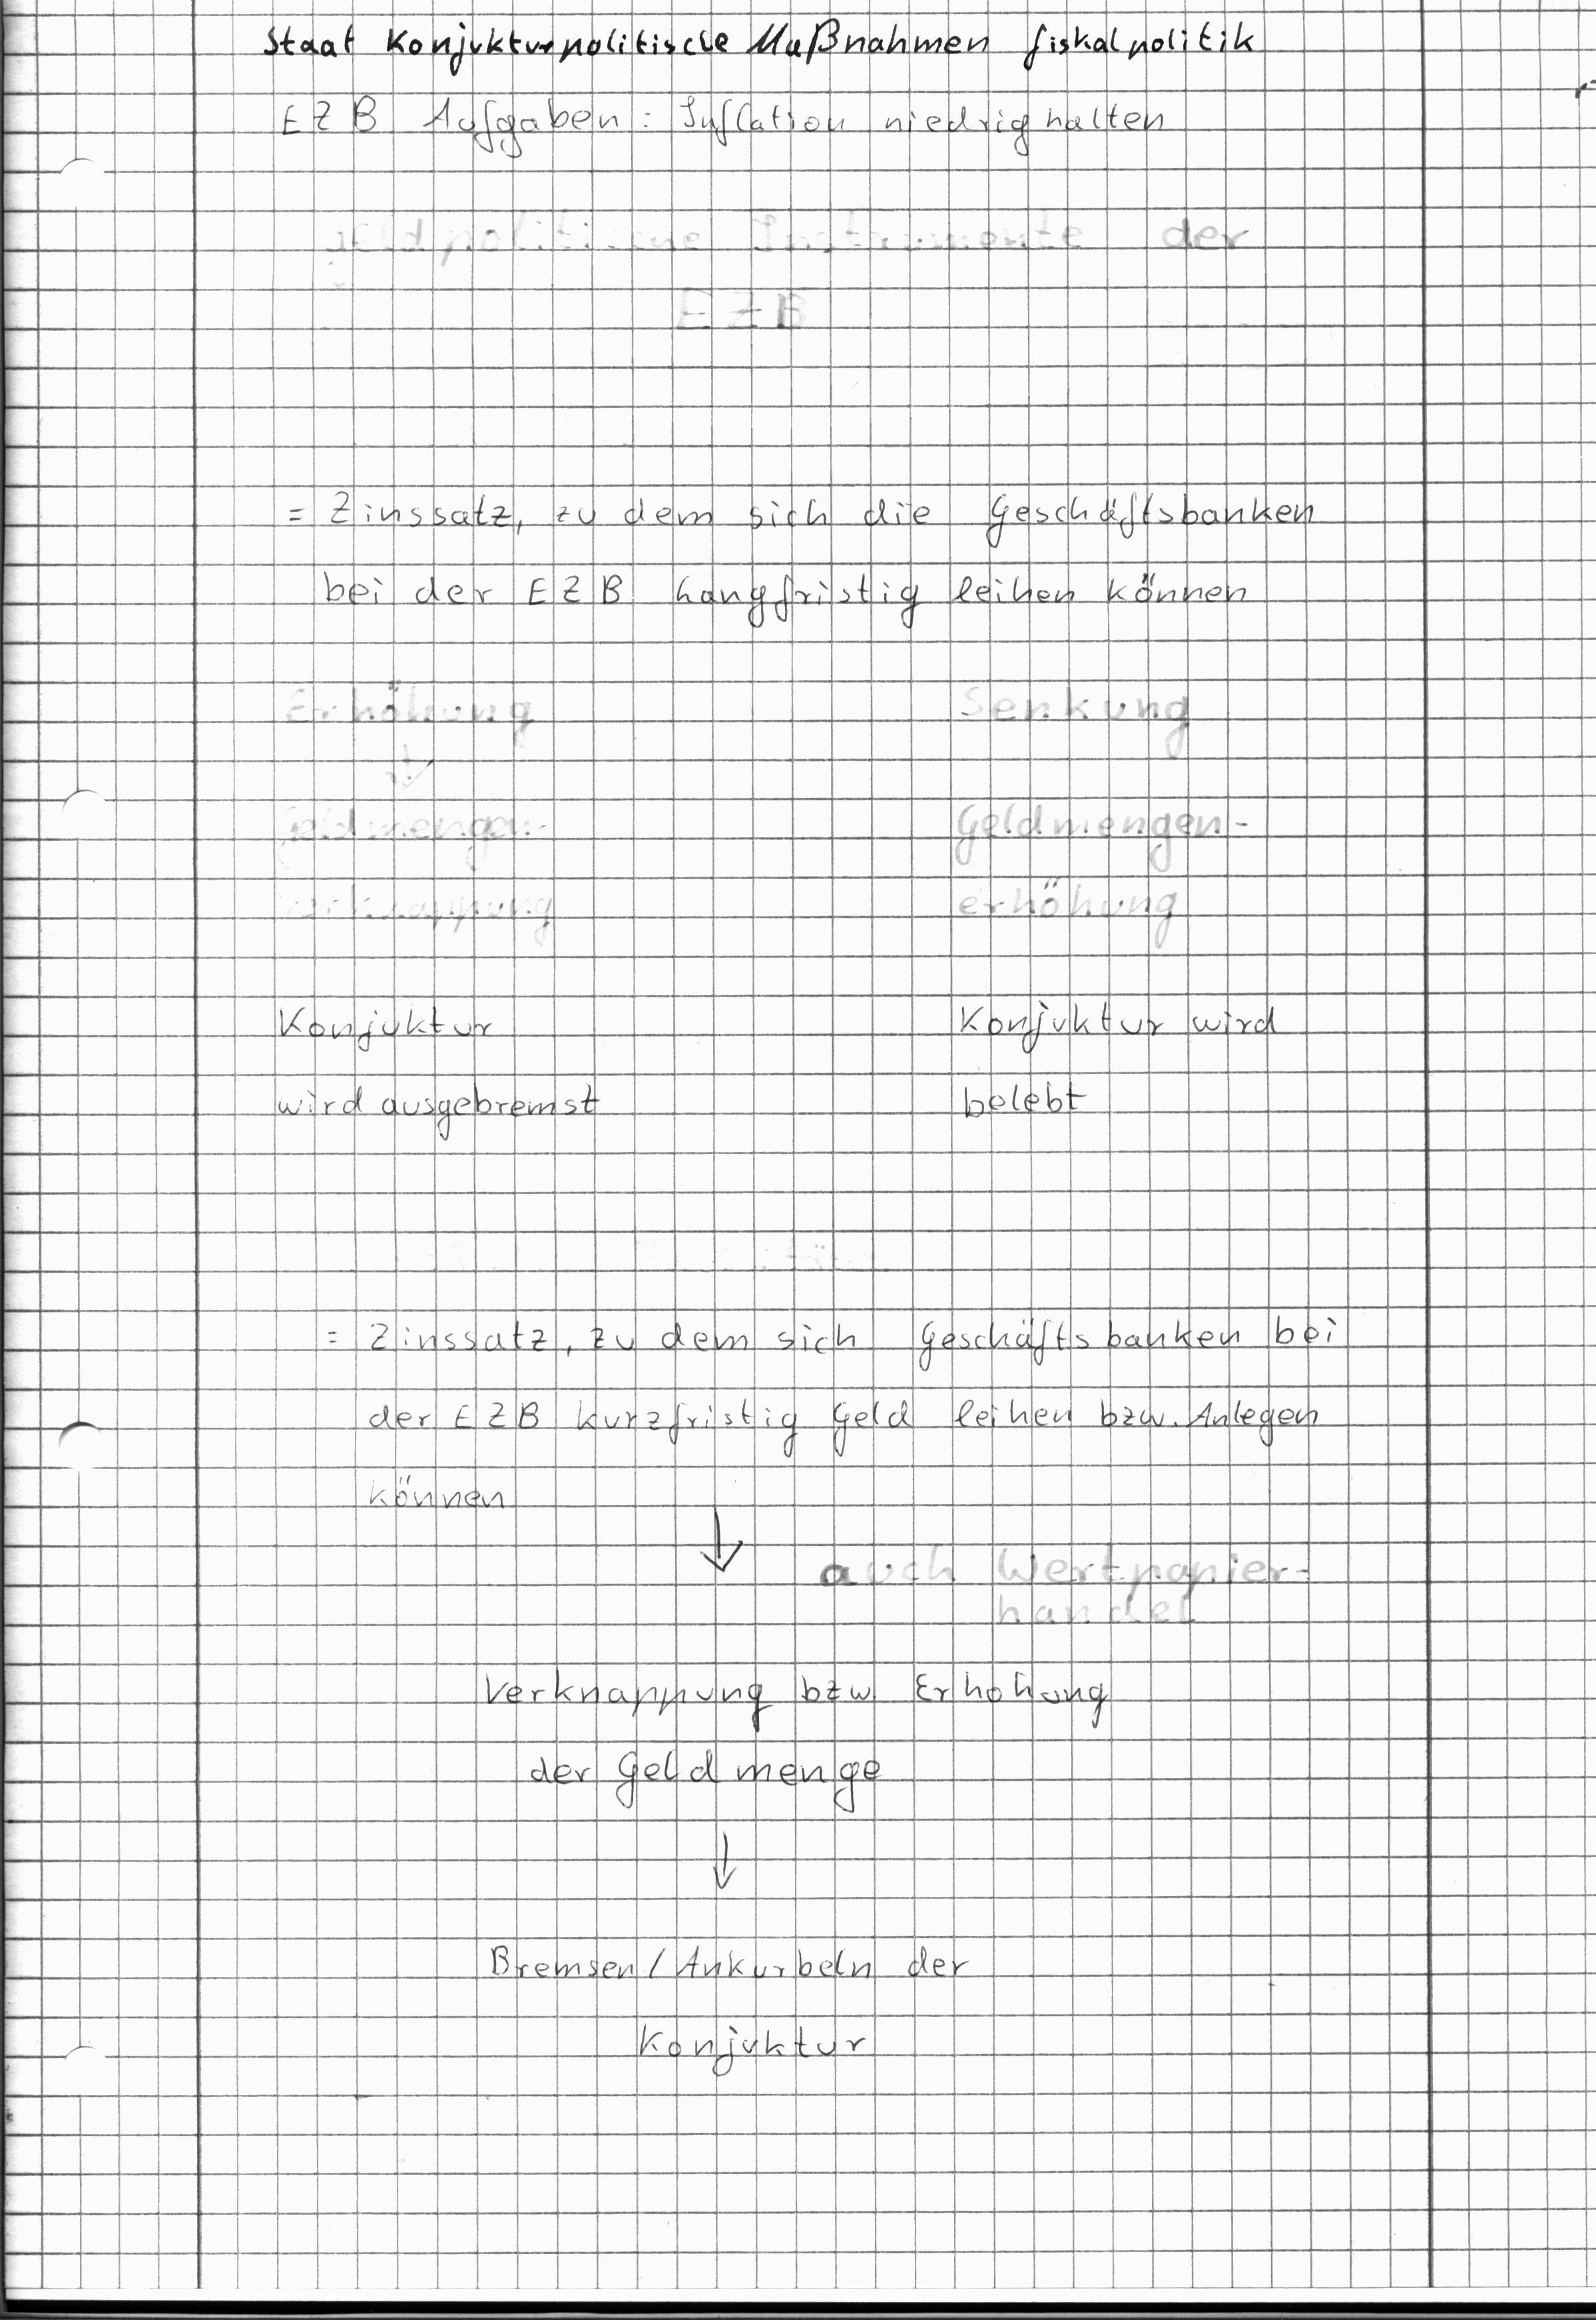word: (316, 1299, 1352, 1521), (279, 475, 1325, 647), (257, 6, 1262, 174), (472, 1655, 1122, 1822), (482, 1932, 974, 2085), (262, 994, 628, 1155), (952, 985, 1286, 1119)
